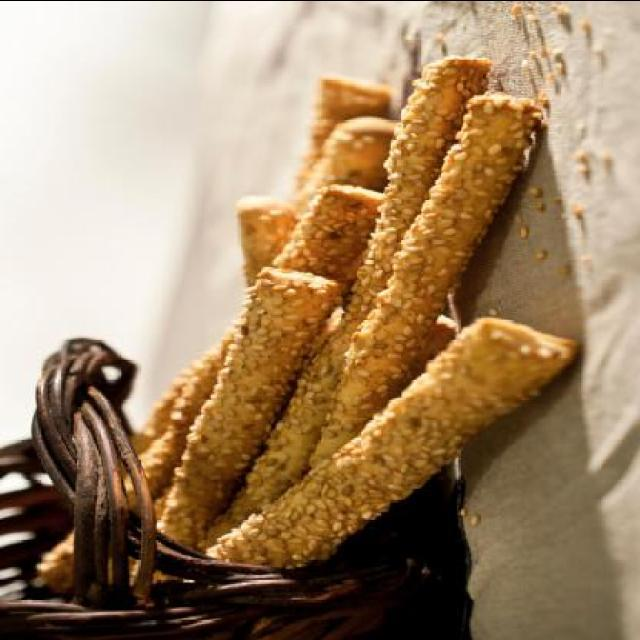Grissini: (126, 54, 584, 552)
